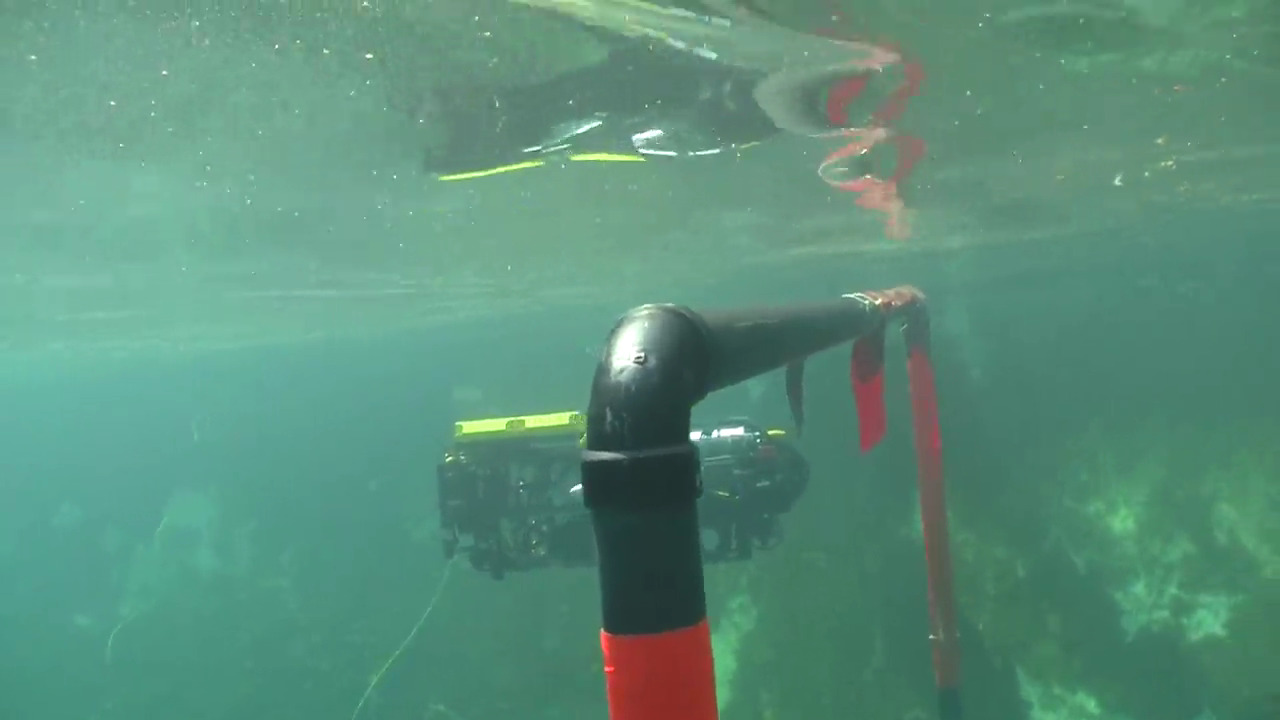gate: (591, 274, 966, 720)
